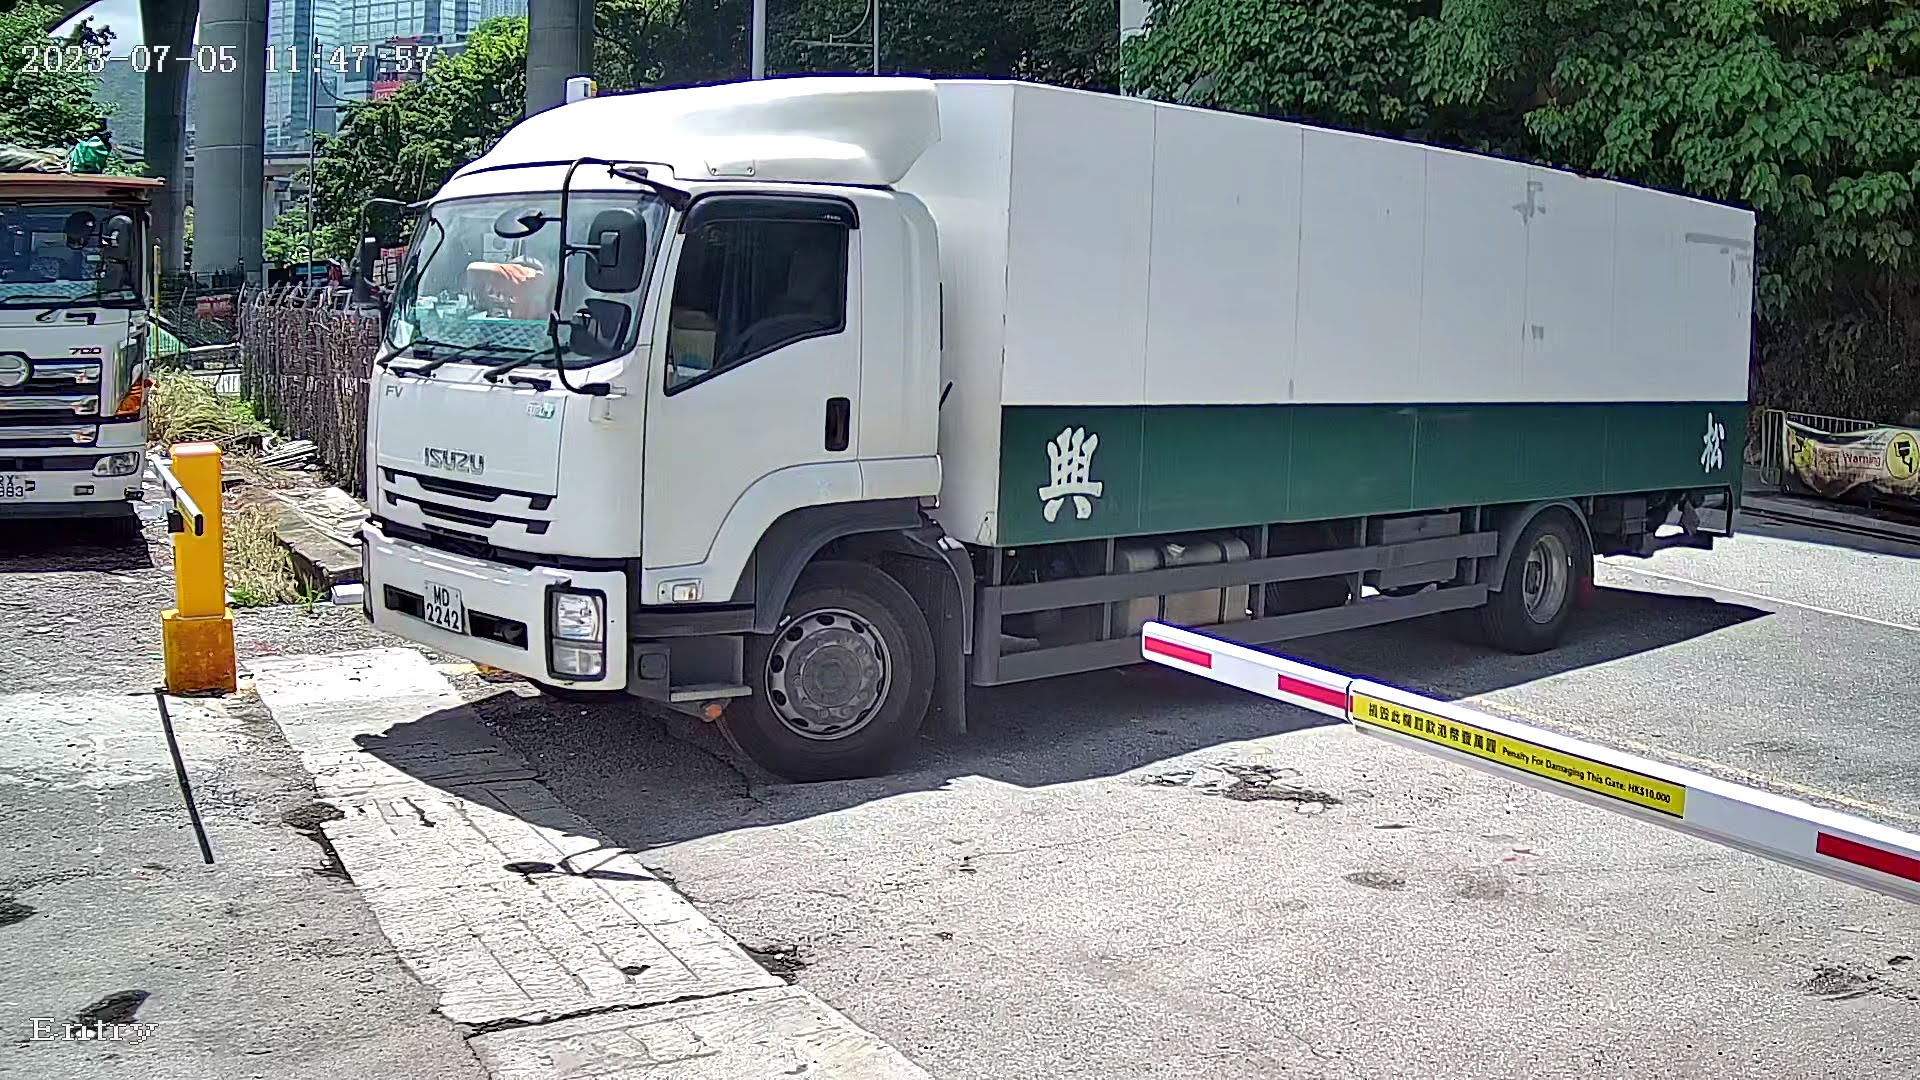truck: (359, 1, 1804, 825)
